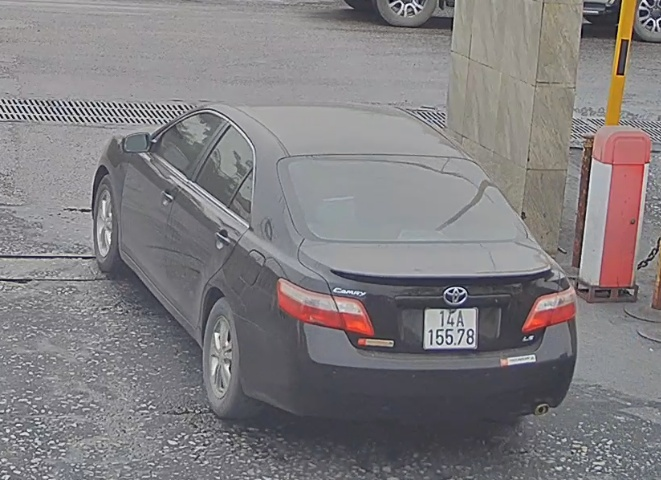vehicle plate: (420, 303, 477, 352)
